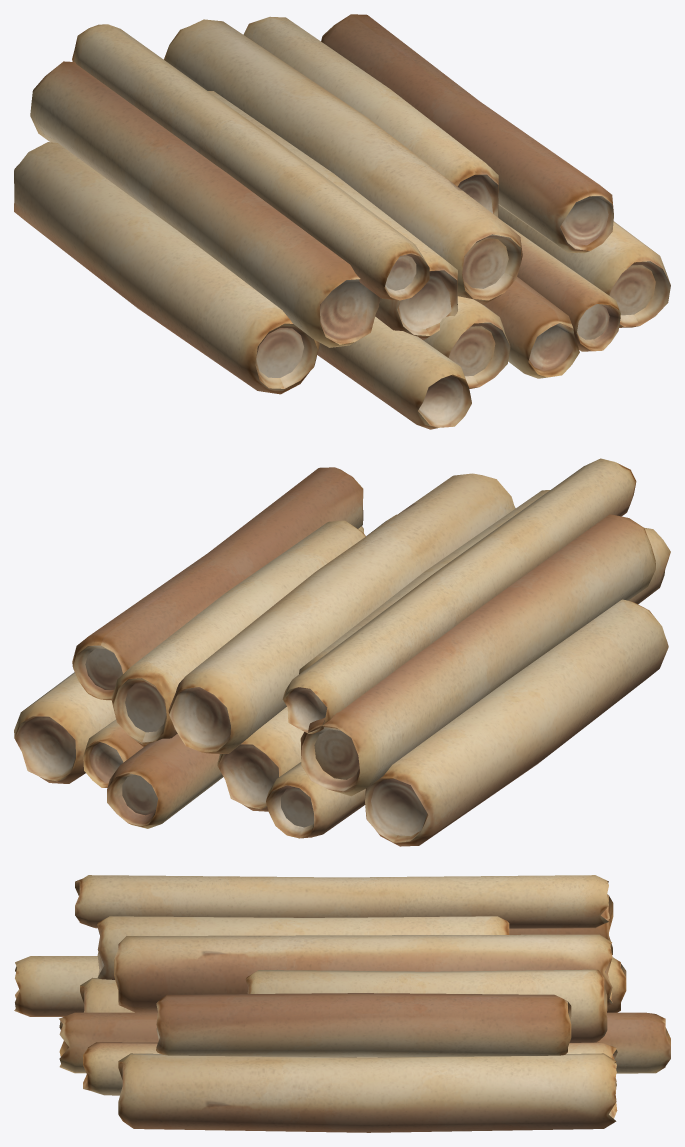
File: SM_Scrollpile_B.fbx
3 views of the same model, one above another, from view 1: azimuth 30°, elevation 25°; view 2: azimuth 150°, elevation 25°; view 3: azimuth 270°, elevation 25° (orthographic). The views are drawn at different scales.
Parts seen in each view (by area): view 1: SM_Scrollpile_B_LOD0; view 2: SM_Scrollpile_B_LOD0; view 3: SM_Scrollpile_B_LOD0.
Part boxes in pixels (x1,y1,x2,y2): SM_Scrollpile_B_LOD0: (14, 14, 670, 429); SM_Scrollpile_B_LOD0: (14, 458, 670, 846); SM_Scrollpile_B_LOD0: (14, 875, 670, 1132).
Bounding box in the file's own units: 40.3 × 65.02 × 15.67.
1 material, 1 textured.
